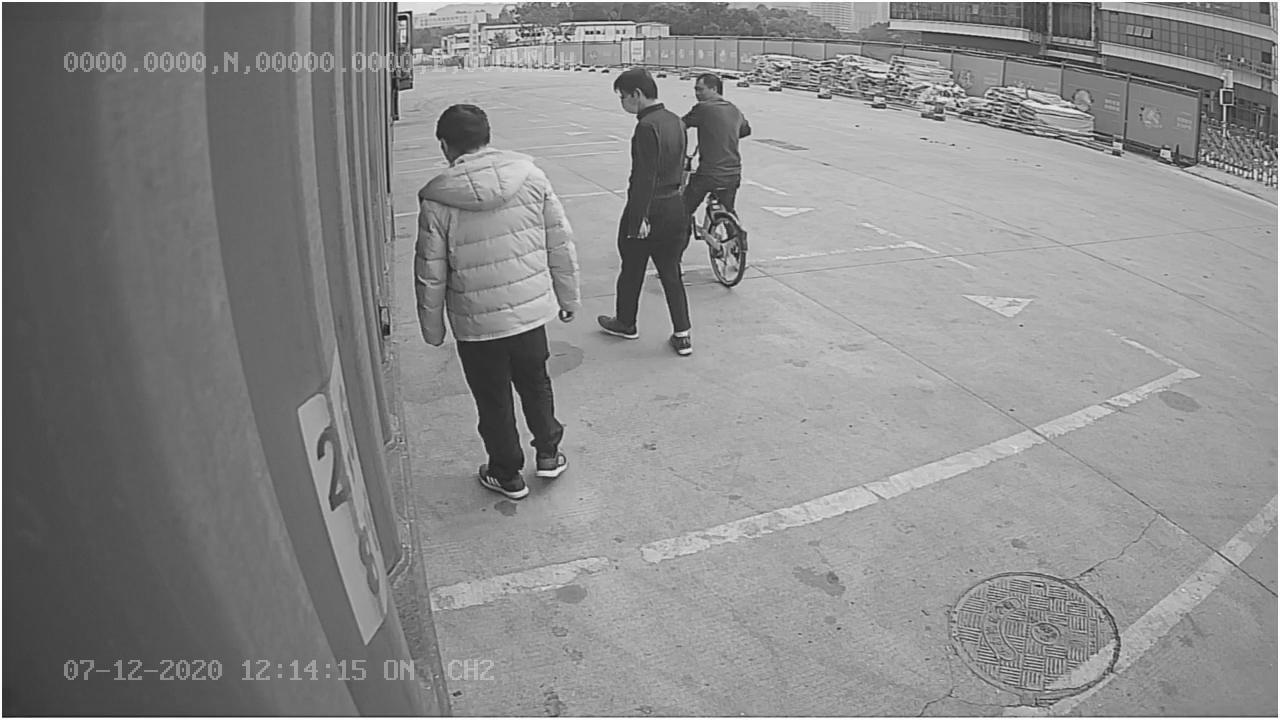person: (413, 98, 585, 500)
